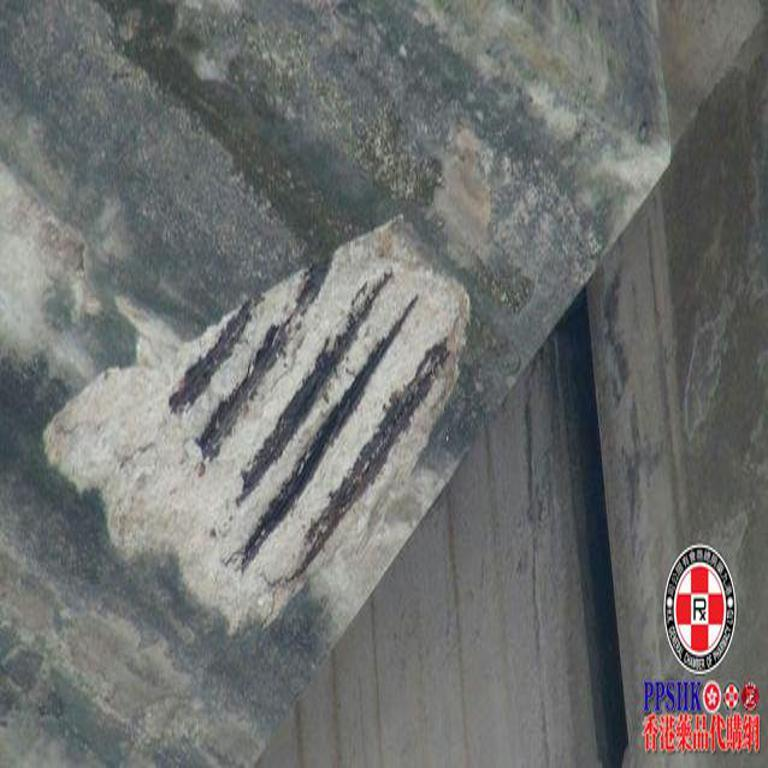exposed_rebar: (228, 297, 416, 572), (272, 340, 448, 592), (240, 272, 392, 500), (196, 268, 325, 457), (170, 302, 253, 412)
spalling: (45, 220, 470, 632)
